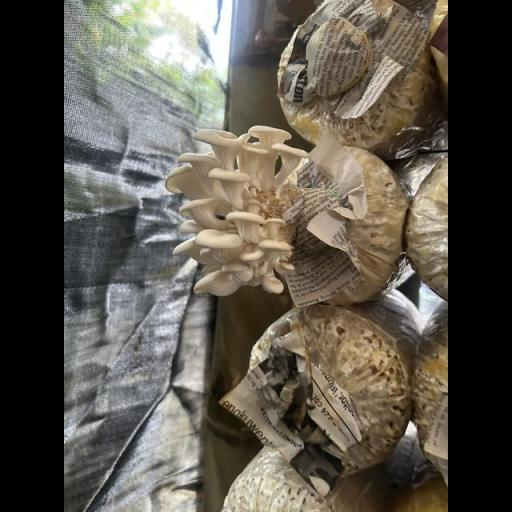White Oyster Mushroom: (157, 108, 326, 303)
